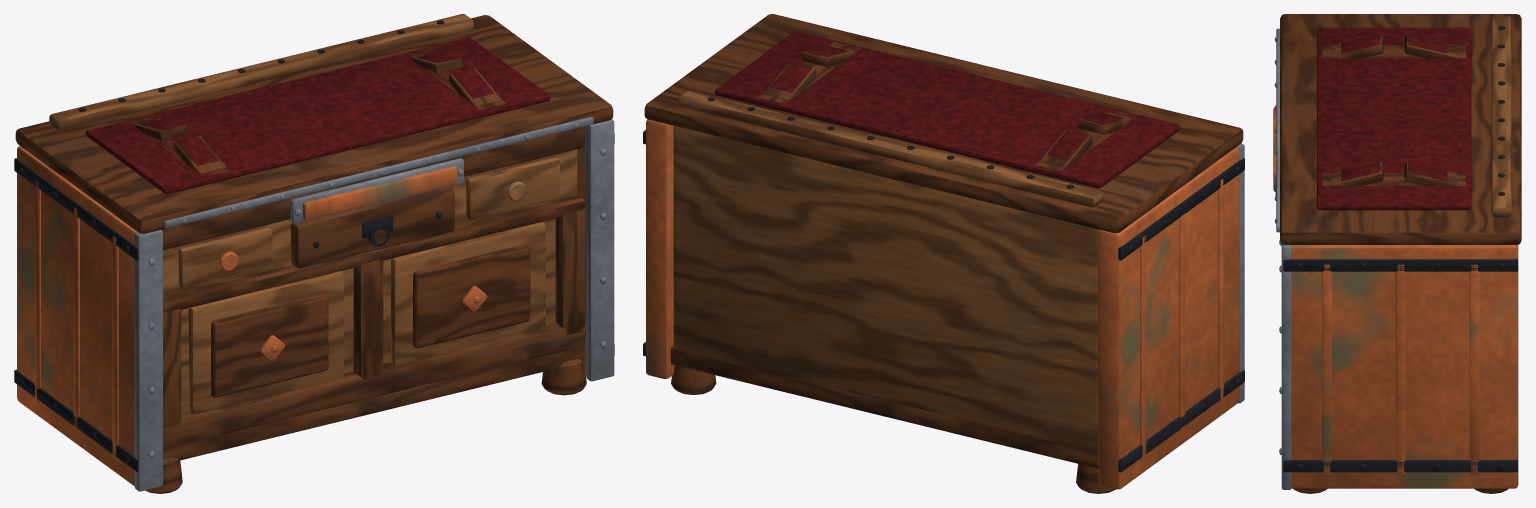
Rendered from cradle.glb.
3 renders of one model, left to right at view 1: azimuth 30°, elevation 25°; view 2: azimuth 150°, elevation 25°; view 3: azimuth 270°, elevation 25°, orthographic. The views are drawn at different scales.
Visible parts, largest first — view 1: Cradle_Body, Cradle_Drawer, Cradle_Nameplate; view 2: Cradle_Body; view 3: Cradle_Body, Cradle_Nameplate.
Boxes of the visible parts, <box> form: Cradle_Body: <box>14,14,614,493</box>; Cradle_Drawer: <box>291,186,454,268</box>; Cradle_Nameplate: <box>303,166,456,220</box>; Cradle_Body: <box>643,14,1244,493</box>; Cradle_Body: <box>1274,14,1521,493</box>; Cradle_Nameplate: <box>1273,107,1276,191</box>.
Size of the model in its own units: 1.57 by 0.9523 by 0.74.
7 materials, 6 textured.
